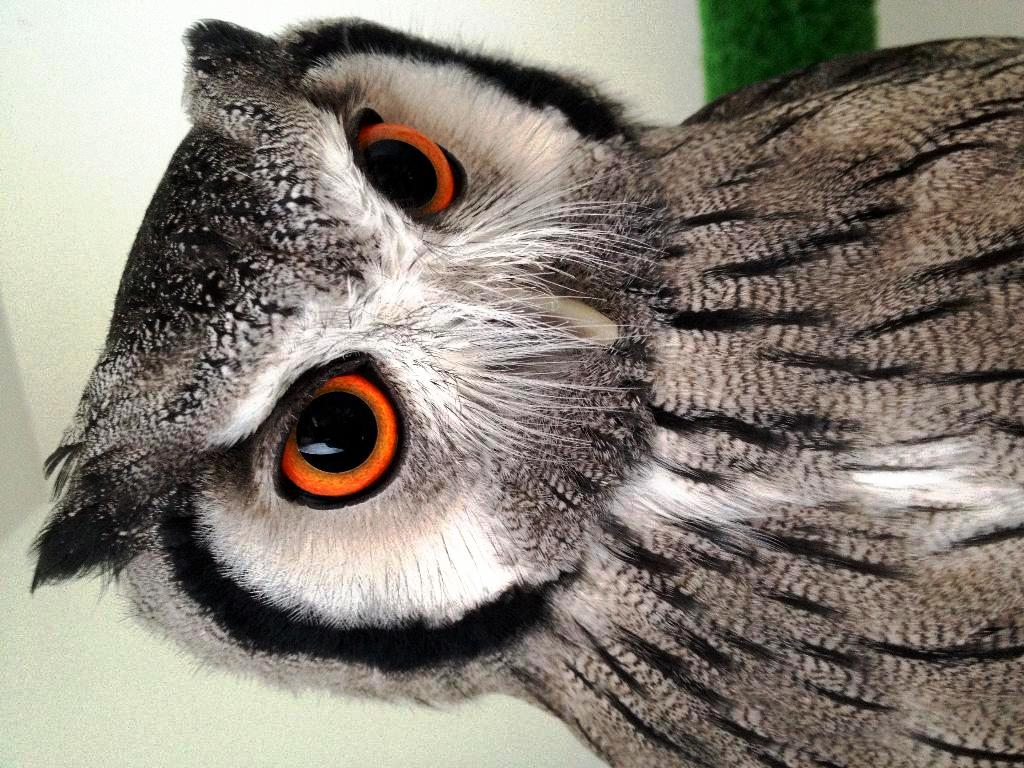Owl: (30, 13, 1024, 768)
